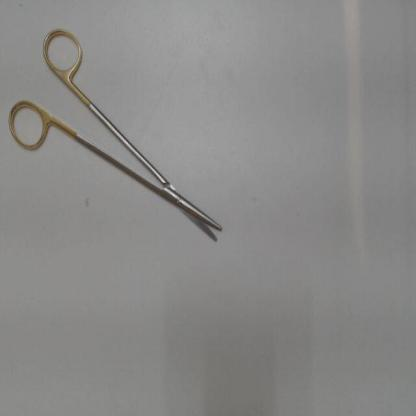7 Metzenbaum Scissors: (5, 22, 228, 252)
